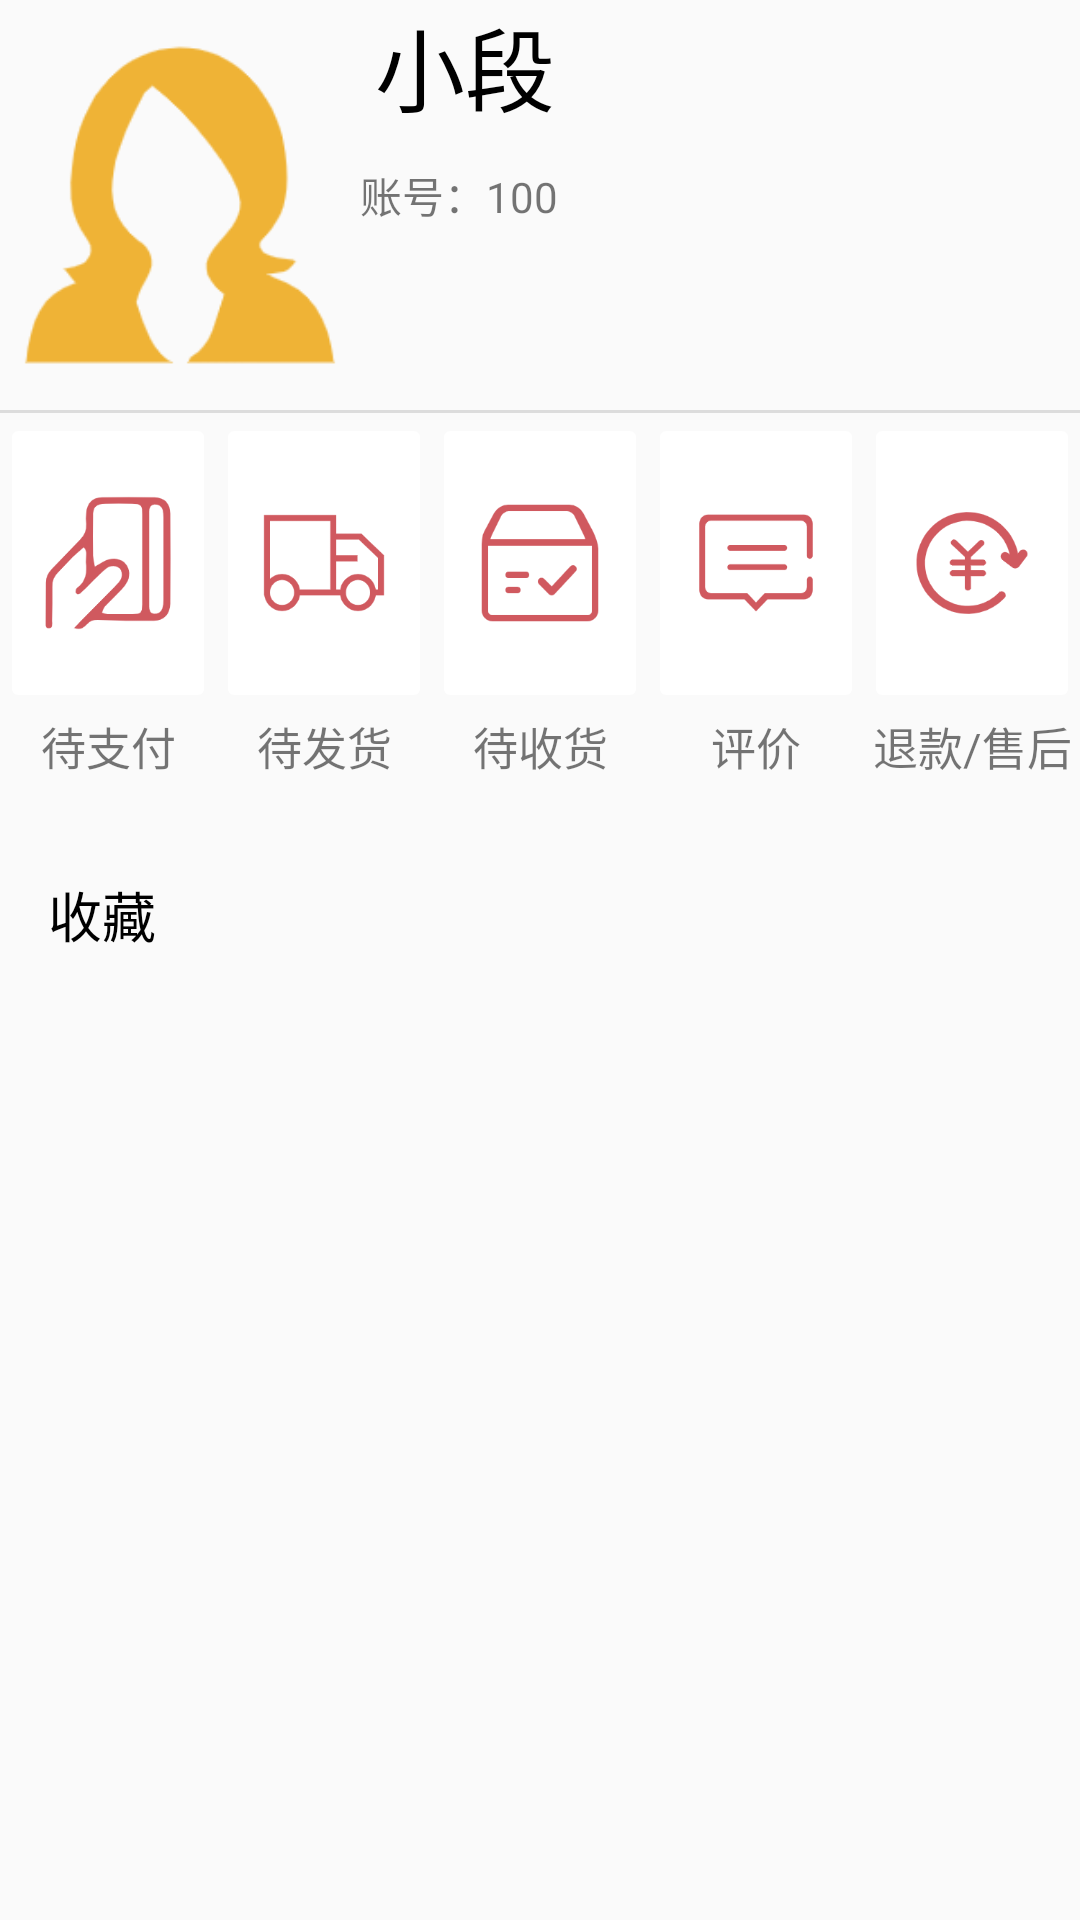

Icon bounding boxes for this 1080px x 1920px phone screenshot, format BBox(x1, y1, x2, y2):
after: BBox(916, 512, 1028, 614)
critical: BBox(699, 514, 813, 611)
pay: BBox(45, 497, 171, 629)
profile: BBox(25, 46, 335, 364)
recieve: BBox(481, 504, 599, 622)
send: BBox(264, 515, 384, 611)
